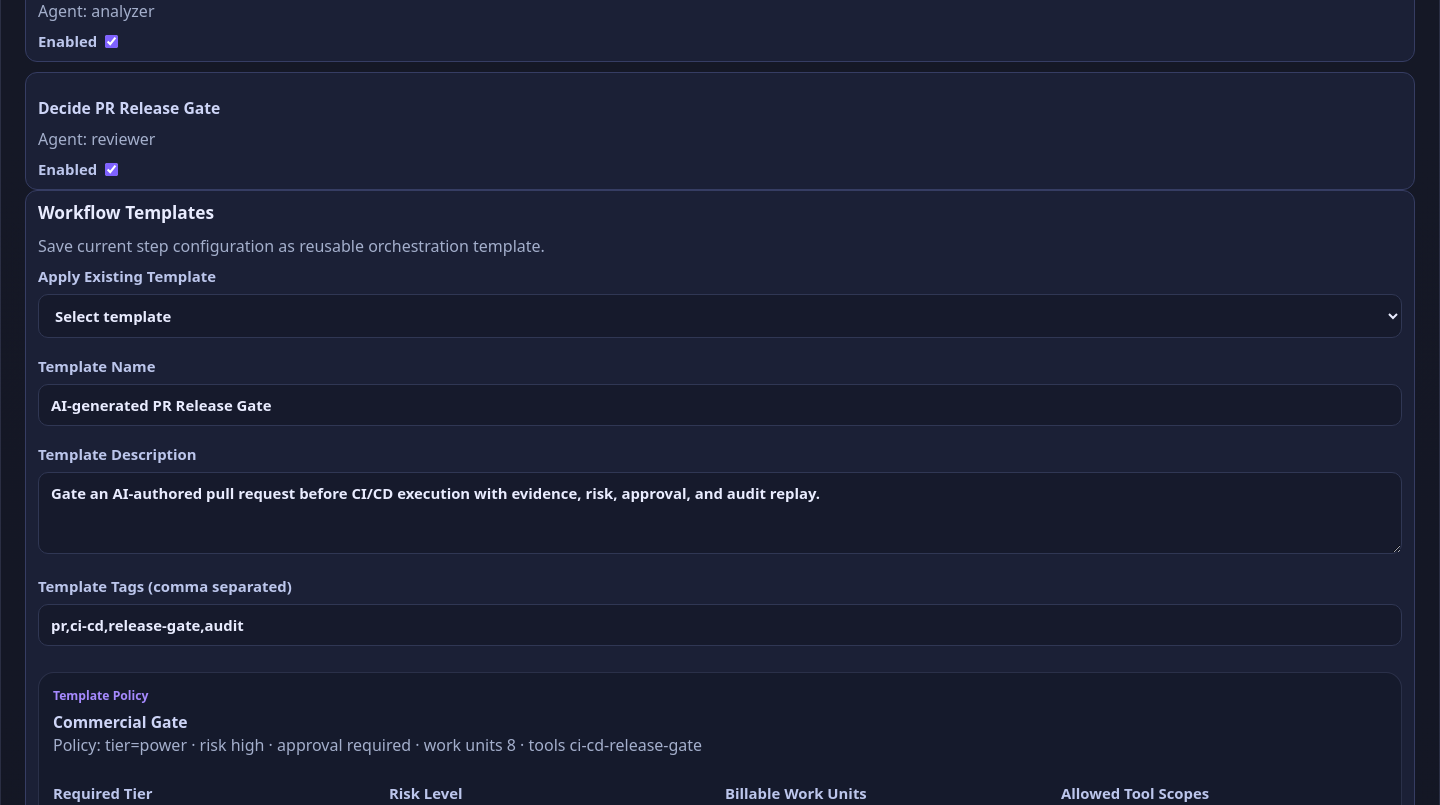
Scenario: orchestration workflow › saves workflow templates with explicit commercial policy controls
(page scrolled)
Replace the text in the field labelled "Template Name" with "Policy Authored Template" at (720,405), box top-left (38, 384), bottom-right (1402, 426)
(page scrolled)
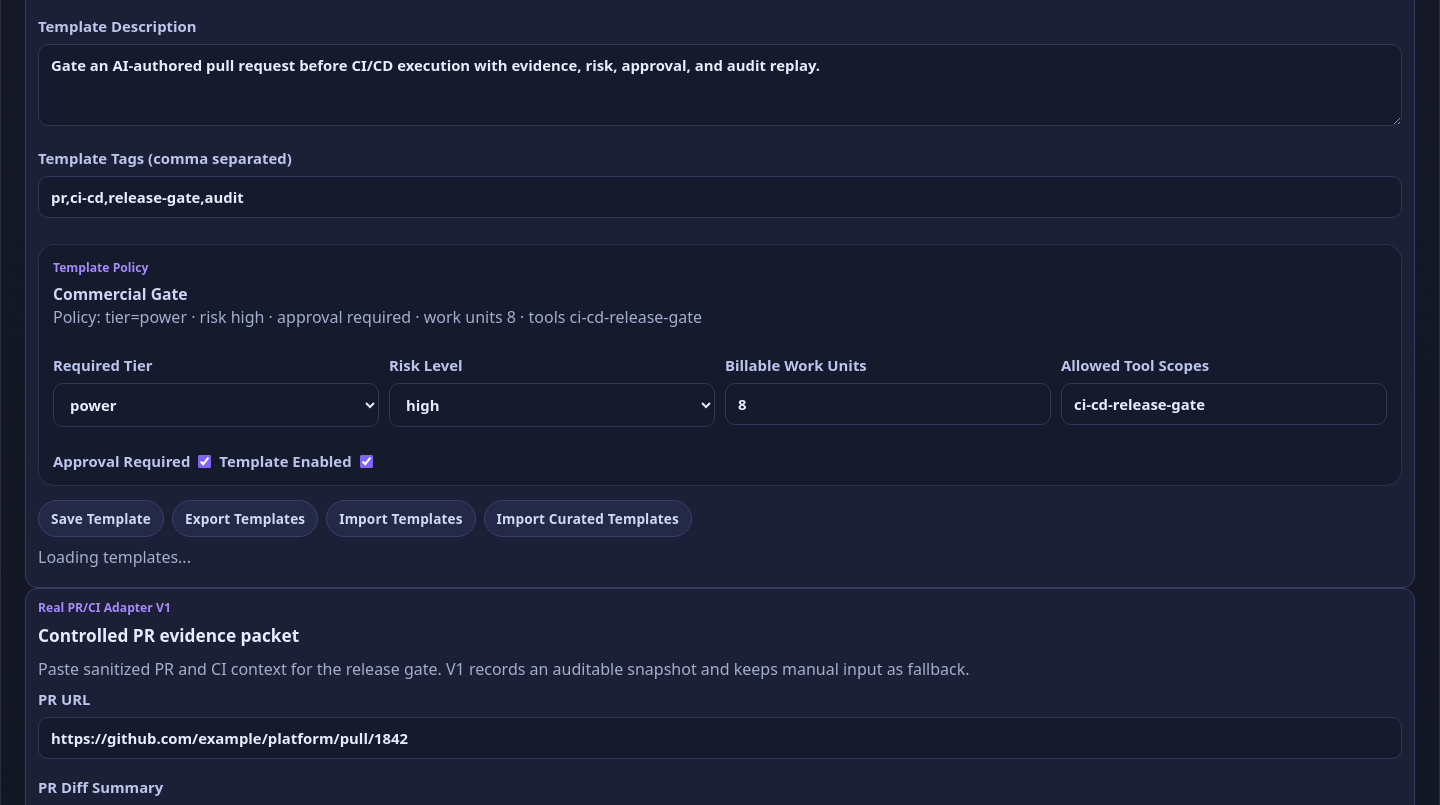
Select "power" in the dropdown labelled "Required Tier" at (216,406), box top-left (53, 384), bottom-right (379, 428)
Select "critical" in the dropdown labelled "Risk Level" at (552,406), box top-left (389, 384), bottom-right (715, 428)
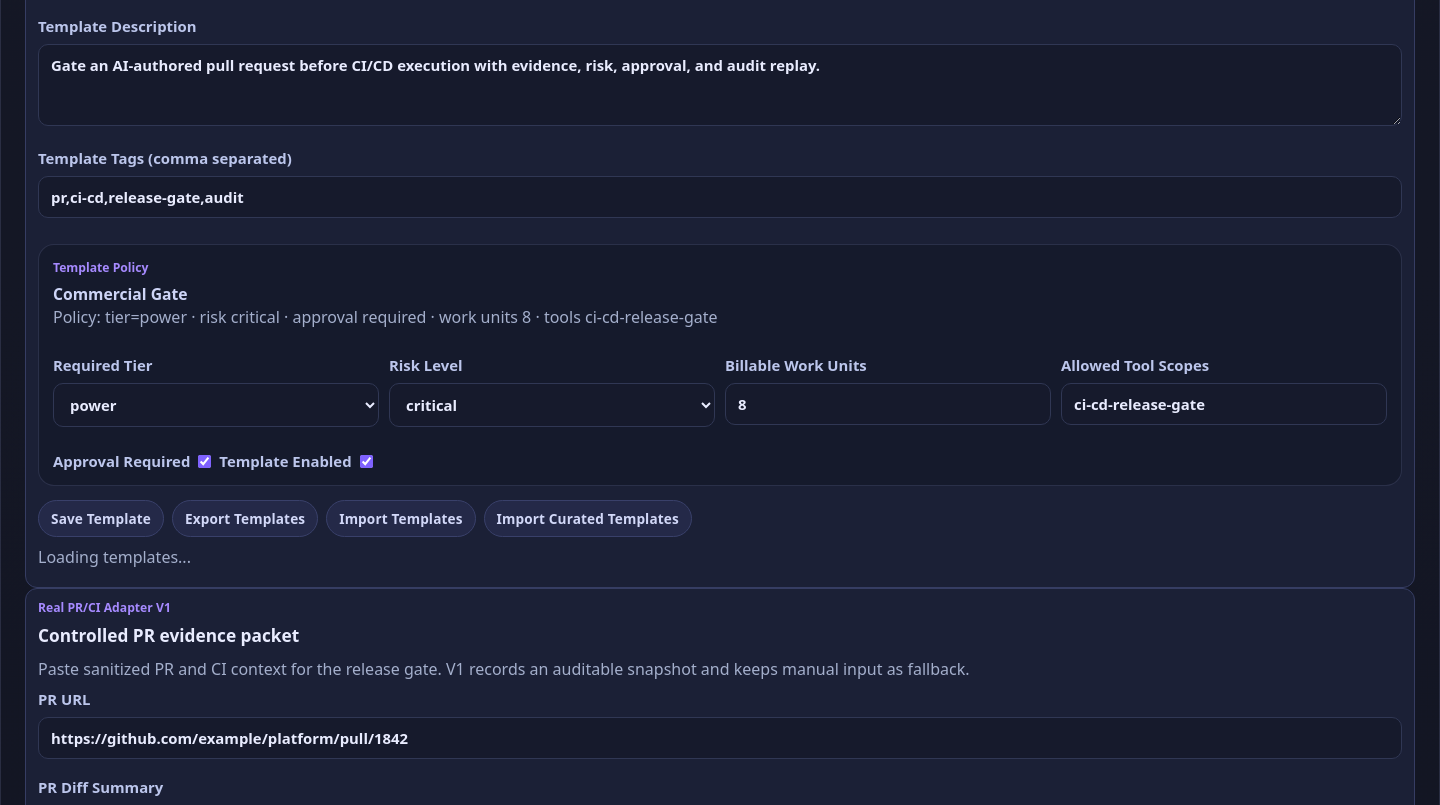
Replace the text in the number field labelled "Billable Work Units" with "9" at (888,404), box top-left (725, 384), bottom-right (1051, 426)
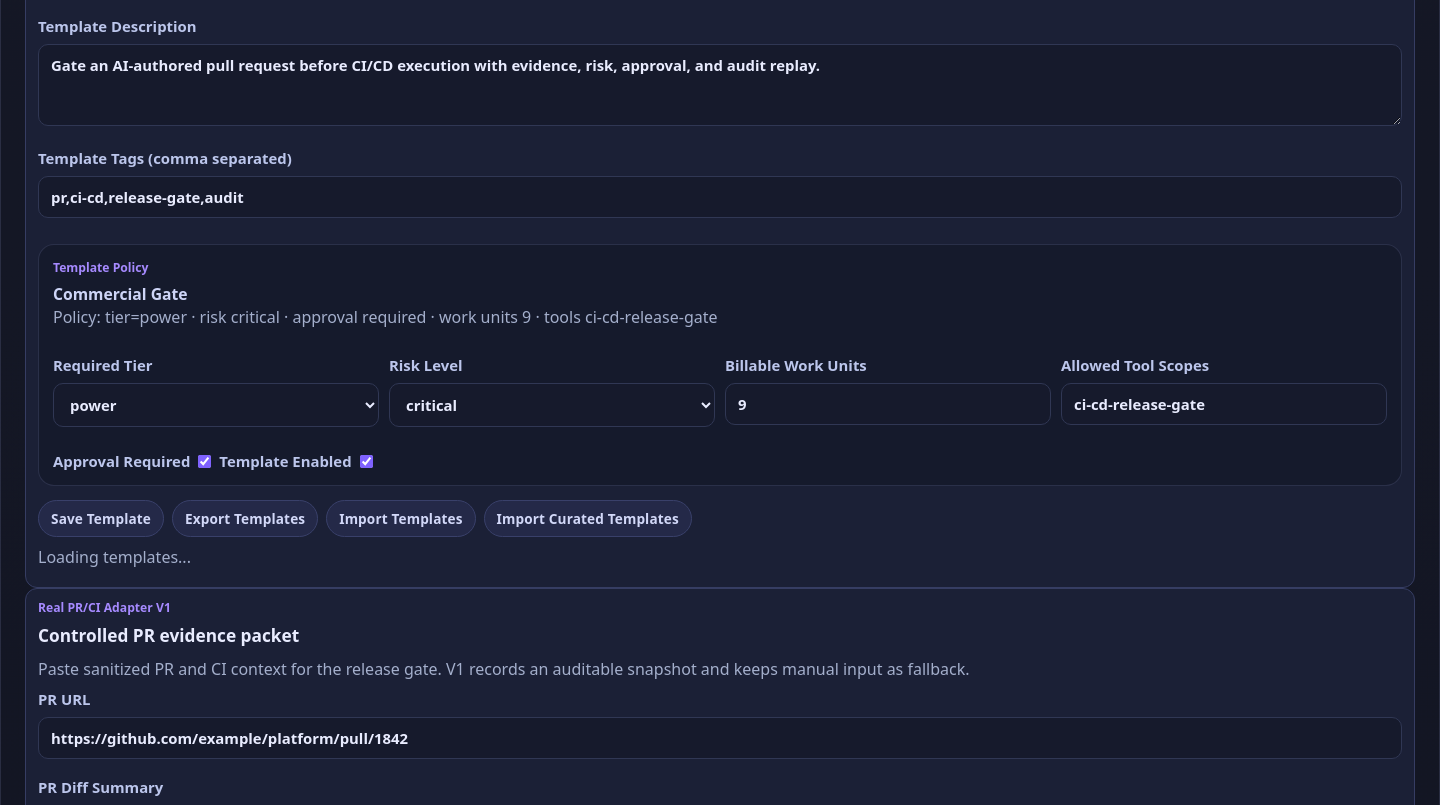
Replace the text in the field labelled "Allowed Tool Scopes" with "server-deploy" at (1224,404), box top-left (1061, 384), bottom-right (1387, 426)
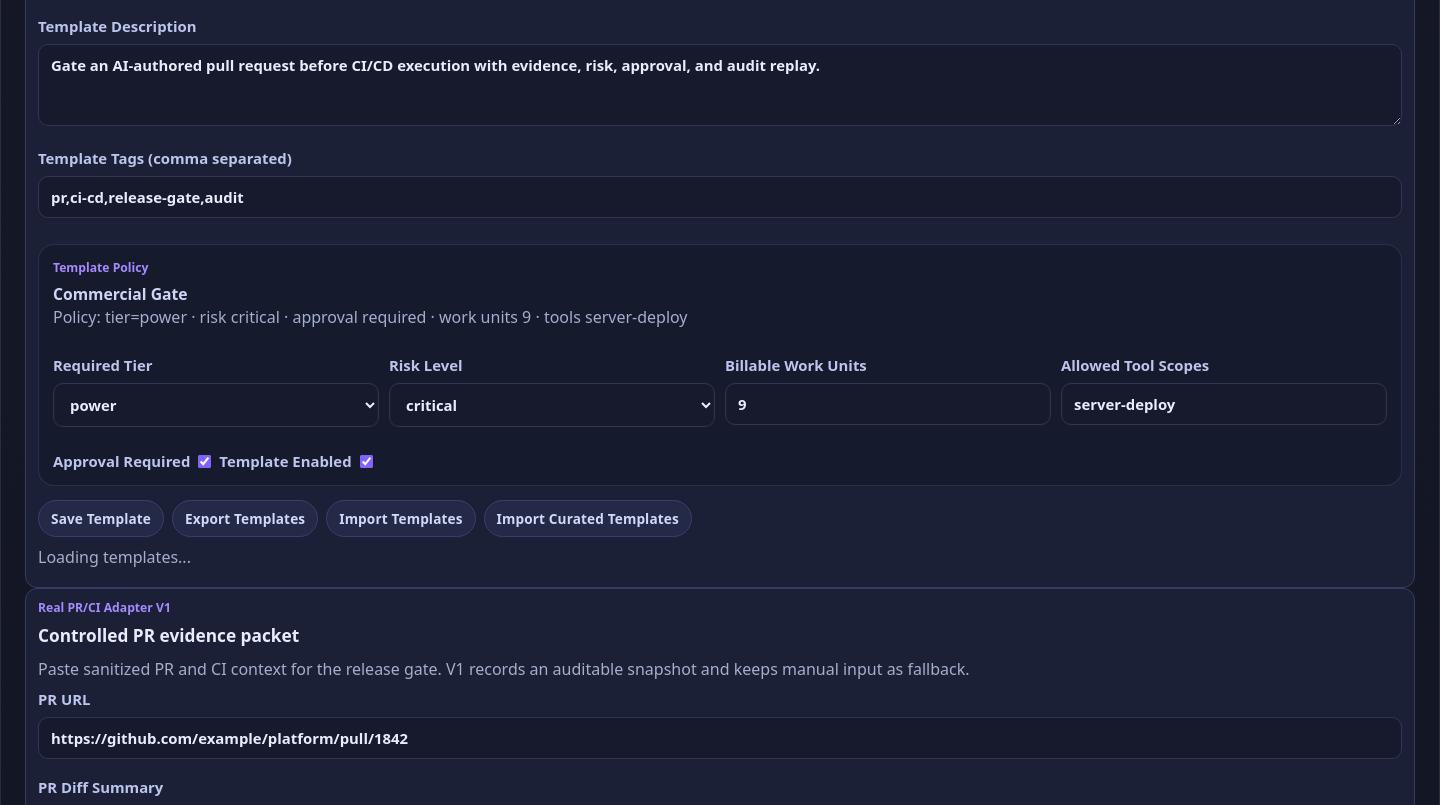
Click the button "Save Template" at (101,519), box top-left (38, 500), bottom-right (164, 538)
(page scrolled)
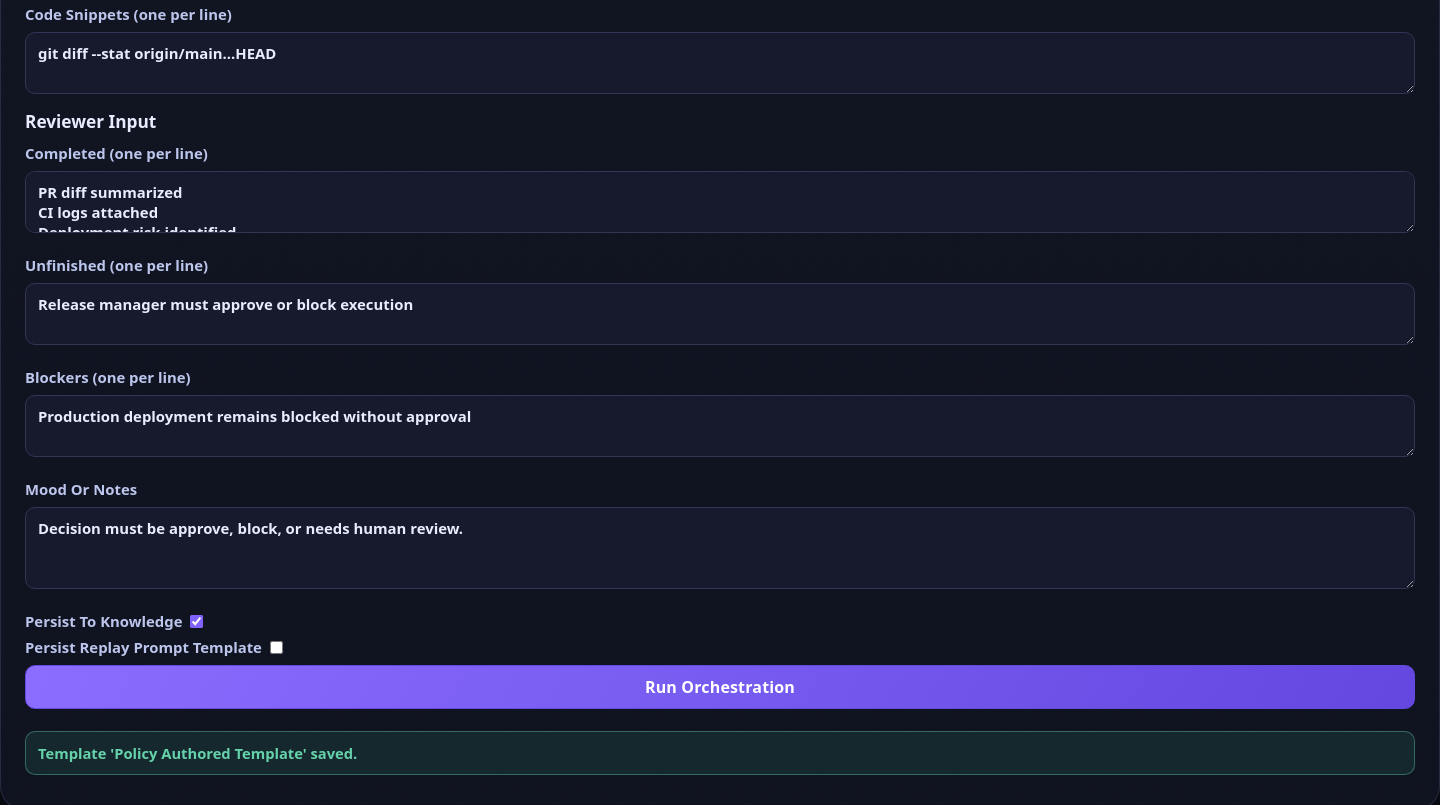
Expected: the text "Template 'Policy Authored Template' saved." is shown, top-left (25, 731), bottom-right (1415, 775)
